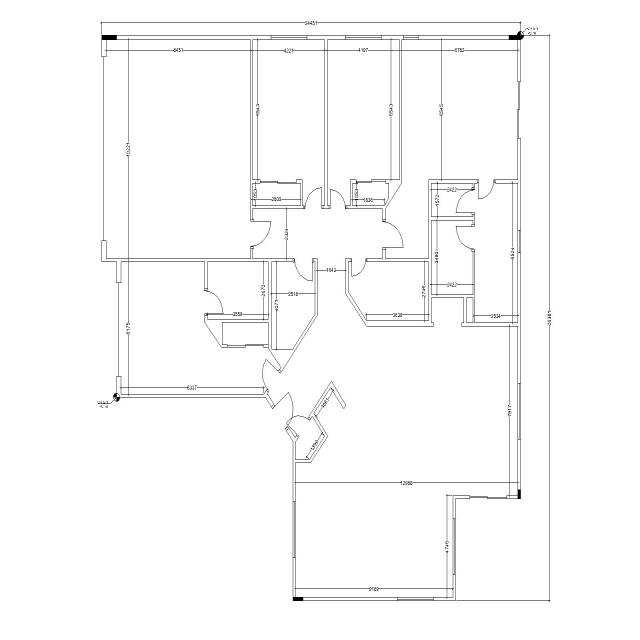Column: (101, 35, 117, 40), (509, 35, 521, 40), (293, 597, 303, 601), (518, 489, 520, 499)
Door: (271, 390, 300, 430), (253, 356, 282, 392), (285, 406, 311, 438), (382, 219, 404, 249), (250, 220, 272, 248), (455, 224, 475, 252), (204, 288, 224, 316), (455, 188, 475, 215), (293, 259, 313, 282), (304, 187, 324, 209), (477, 179, 496, 200), (329, 189, 347, 209), (351, 258, 367, 277)
Sliding Door: (227, 344, 264, 348), (469, 496, 507, 499), (518, 82, 520, 138), (260, 180, 296, 183), (356, 180, 386, 183)
Window: (292, 501, 296, 558), (452, 518, 456, 574), (345, 35, 382, 40), (271, 35, 307, 40), (397, 597, 434, 601), (518, 383, 520, 440), (404, 35, 418, 40), (518, 230, 520, 253)
